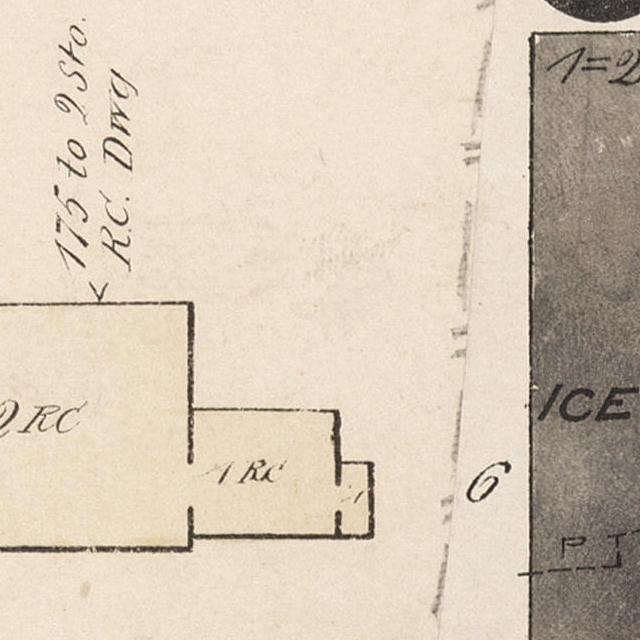building-footprints: (0, 304, 372, 549), (526, 32, 640, 640)
